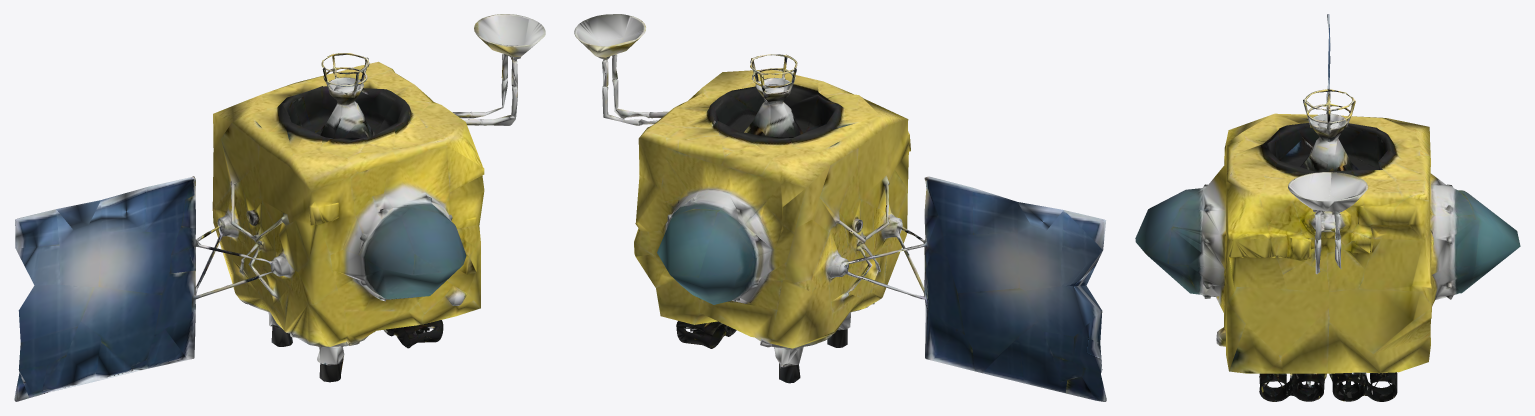
The model's file is chandrayaan1-low.glb.
3 renders of one model, left to right at view 1: azimuth 30°, elevation 25°; view 2: azimuth 150°, elevation 25°; view 3: azimuth 270°, elevation 25°, orthographic.
Size of the model in its own units: 1.9 by 0.9946 by 1.2.
1 material, 1 textured.
